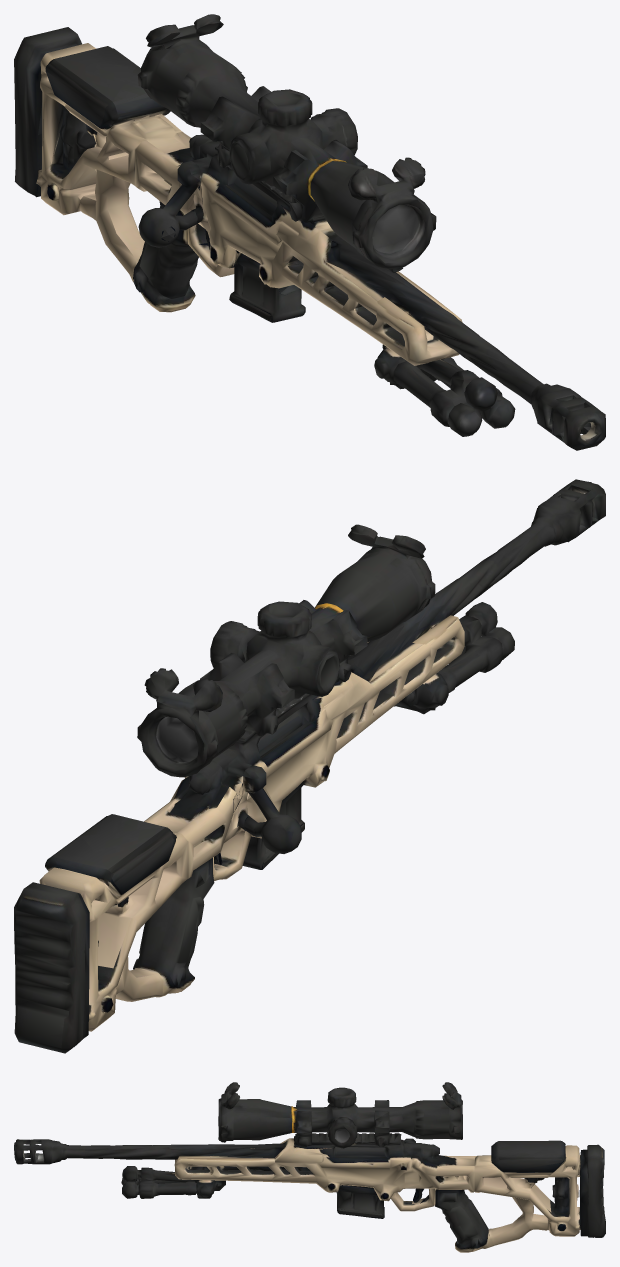
Rendered from wpn_sr_longbow.glb.
The picture shows the model from 3 angles, top to bottom: view 1: azimuth 30°, elevation 25°; view 2: azimuth 150°, elevation 25°; view 3: azimuth 270°, elevation 25°; orthographic projection. The views are drawn at different scales.
Visible parts, largest first — view 1: body, bolt, mag; view 2: body, bolt, mag; view 3: body, mag.
Boxes of the visible parts, left/top/right/bottom form: body: left=14, top=14, right=605, bottom=450; bolt: left=138, top=161, right=202, bottom=247; mag: left=231, top=252, right=304, bottom=322; body: left=14, top=479, right=605, bottom=1053; bolt: left=233, top=765, right=301, bottom=853; mag: left=242, top=781, right=304, bottom=869; body: left=14, top=1082, right=605, bottom=1252; mag: left=337, top=1185, right=384, bottom=1218.
Size of the model in its own units: 0.1752 by 0.3502 by 1.18.
1 material, 1 textured.
